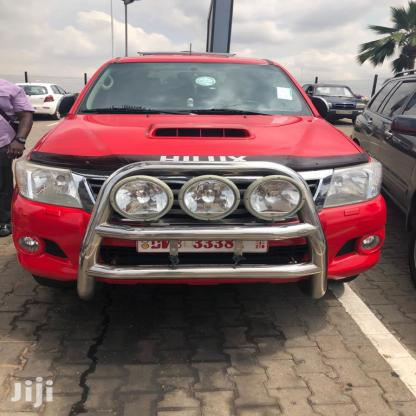light_vehicle: (22, 40, 392, 300)
